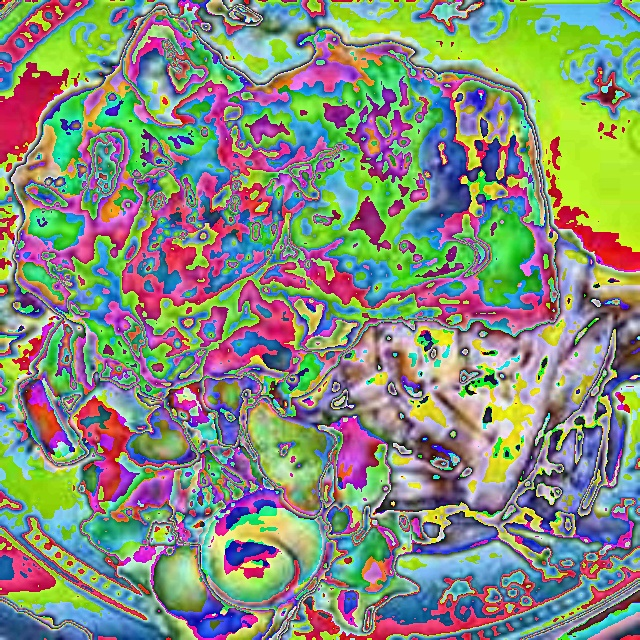background: (8, 10, 639, 639)
